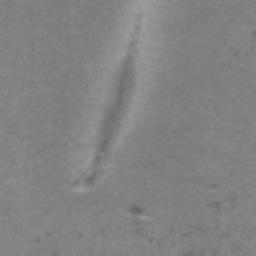Finishing roll printing: (82, 13, 145, 186), (131, 204, 145, 216)
